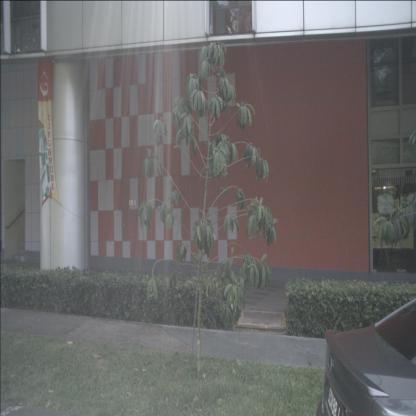vehicle-car: (315, 294, 415, 415)
